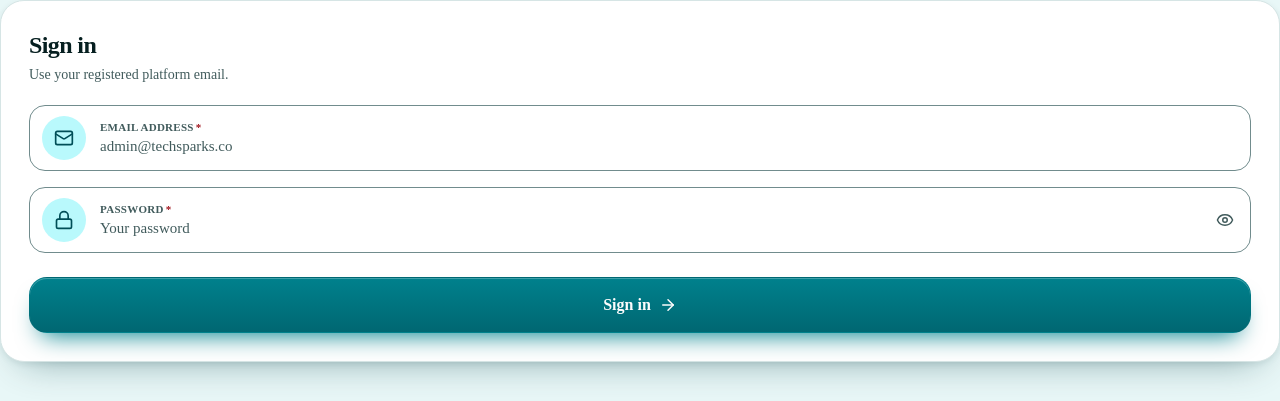
Scenario: platform admin login › disables submit while signing in
Type "admin@example.com" into the field labelled "Email address*" at coordinates (670, 146), box [100,135,1240,158]
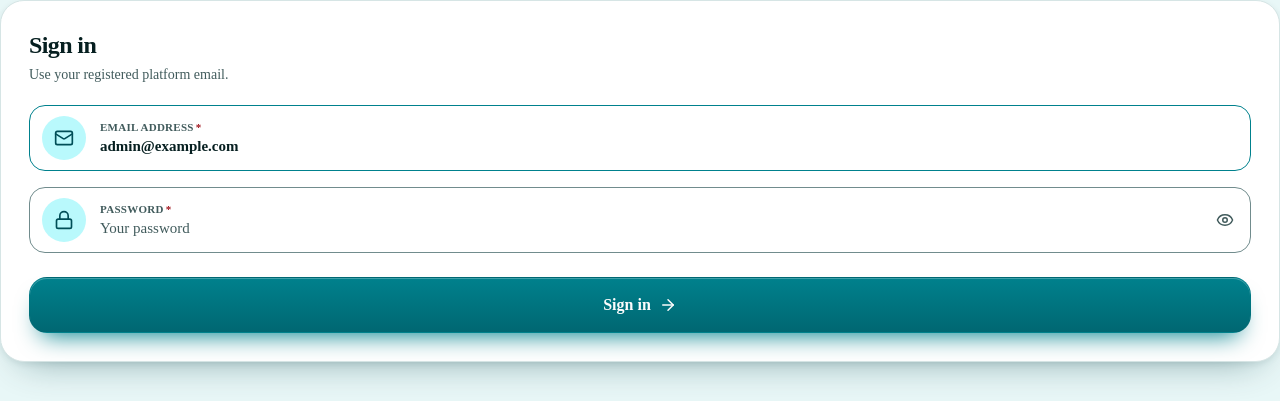
Type "correct-horse-battery" into the password field labelled "Password*" at coordinates (648, 228), box [100,217,1196,240]
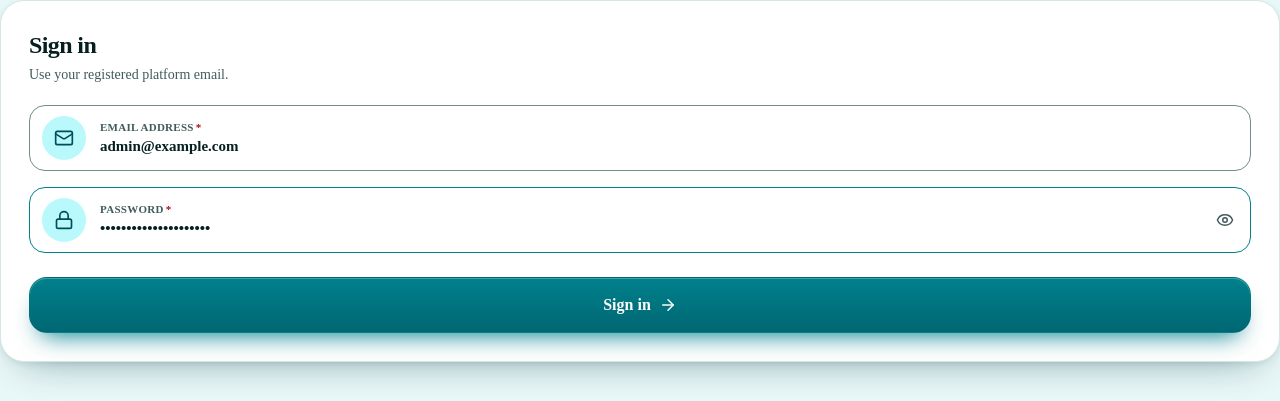
Click the button "Sign in" at coordinates (640, 305), box [29,277,1251,333]
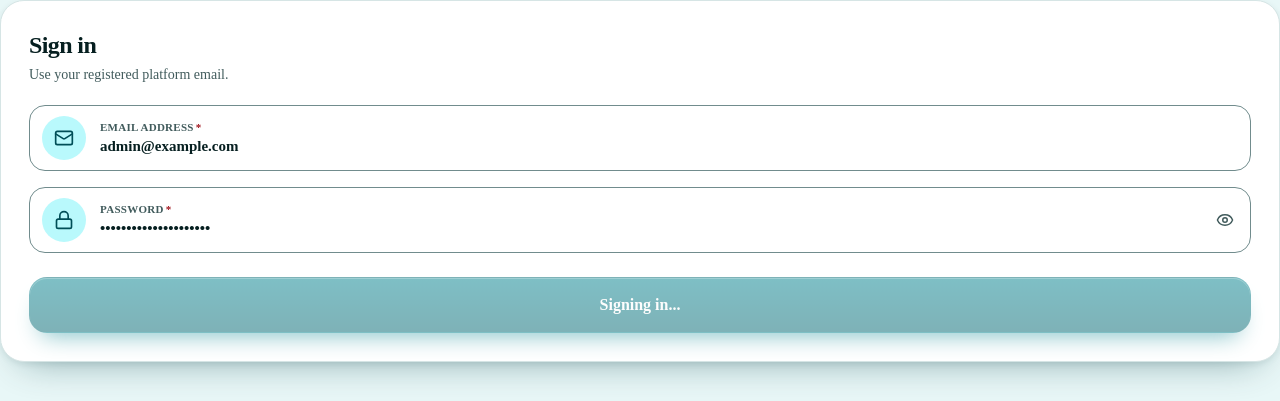
Expected: the button "Signing in..." is disabled, [29,277,1251,333]
